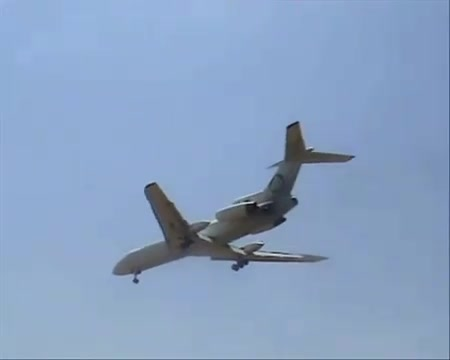aeroplane: (113, 121, 356, 285)
